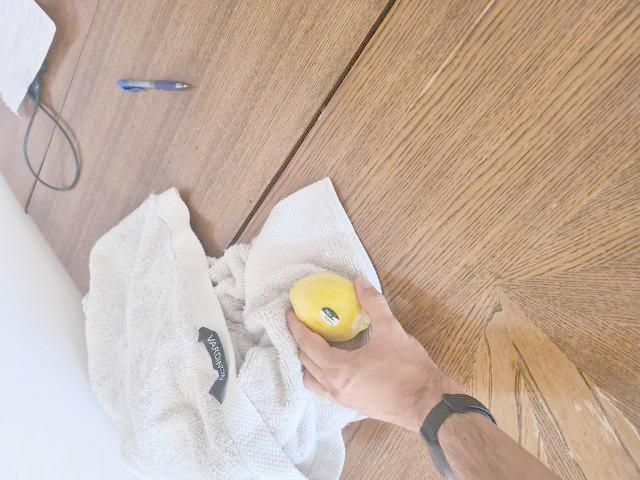lemon: (289, 272, 377, 347)
